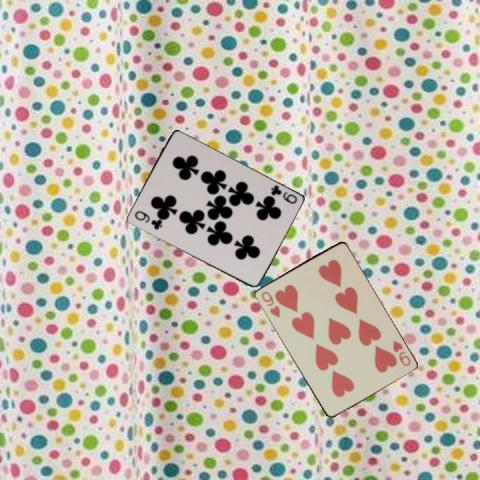9c: (132, 208, 164, 231), (267, 182, 299, 205)
9h: (258, 288, 281, 319), (389, 337, 412, 367)
